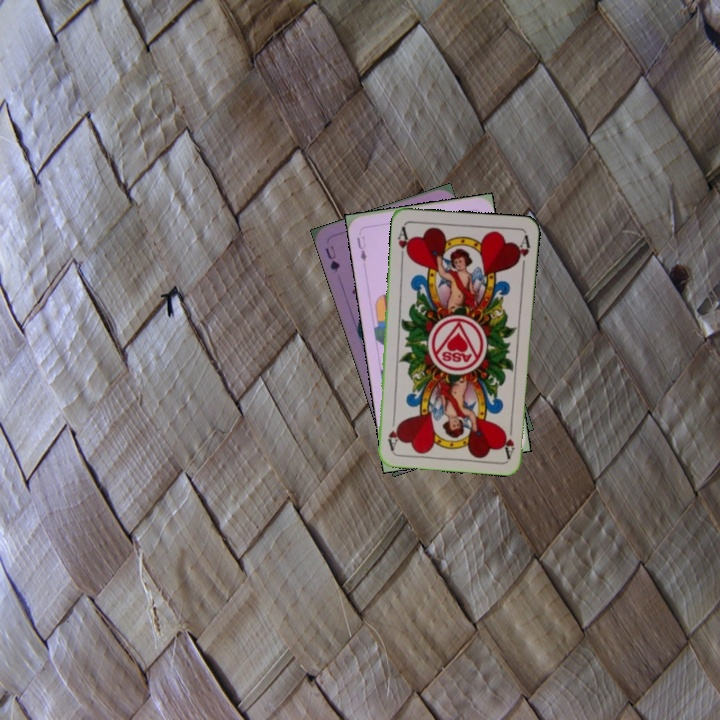EU: (353, 232, 369, 264)
GU: (321, 242, 343, 275)
HA: (394, 222, 413, 263), (499, 419, 517, 460)
